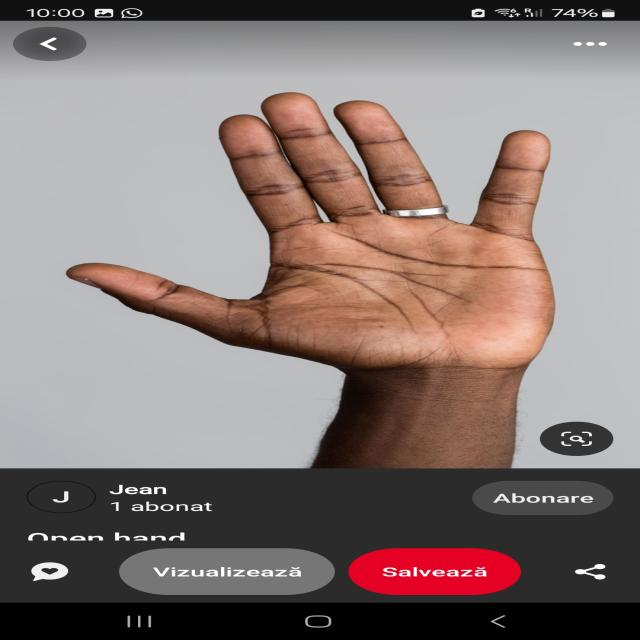hands: (62, 69, 588, 427)
